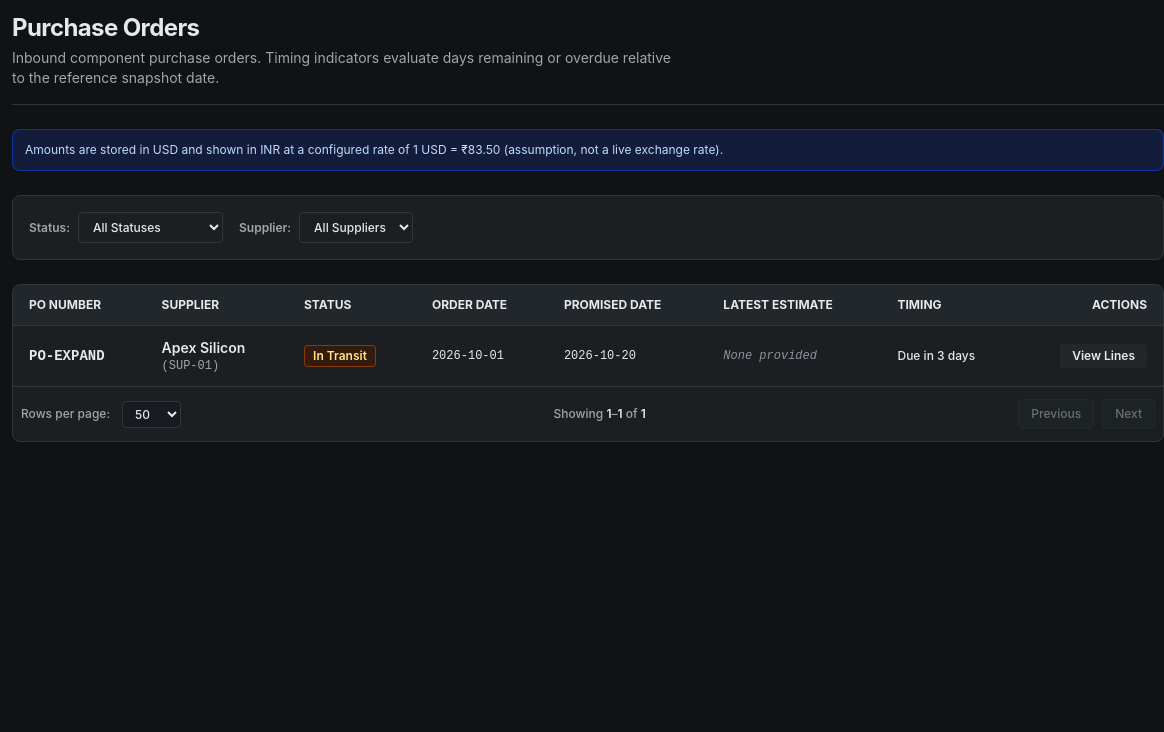
PurchaseOrdersPage › displays INR notice, changes header to Unit Price (INR), and formats line prices in ₹ without $ when display_currency is INR
The width and height of the screenshot is (1164, 732).
Expected: the text with test id "currency-notice" shows "Amounts are stored in USD and shown in INR at a configured rate of 1 USD = ₹83.50", [12,129,1163,171]
Click the button with test id "toggle-po-10" at (1104, 356), box [1060,344,1147,368]
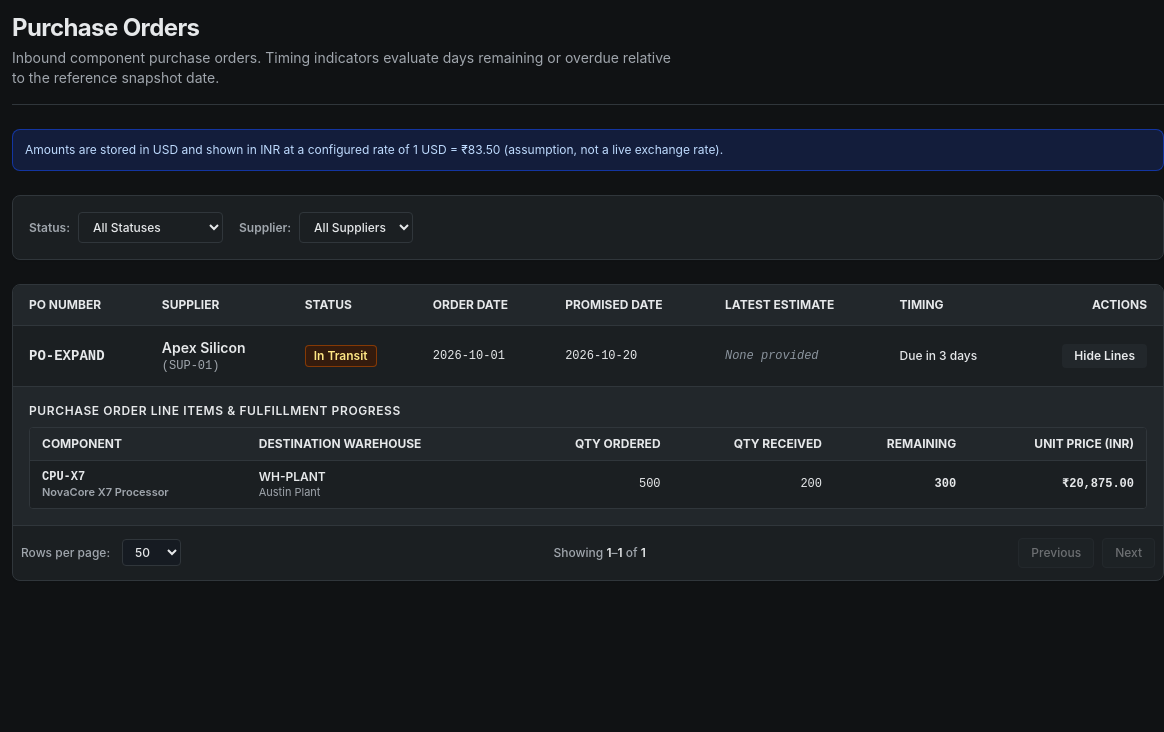
Expected: the element with test id "lines-table-10" is shown, [29,403,1147,509]
Expected: the column heading "Unit Price (INR)" is shown, [968,428,1146,460]
Expected: the text "₹20,875.00" is shown, [968,460,1146,508]
